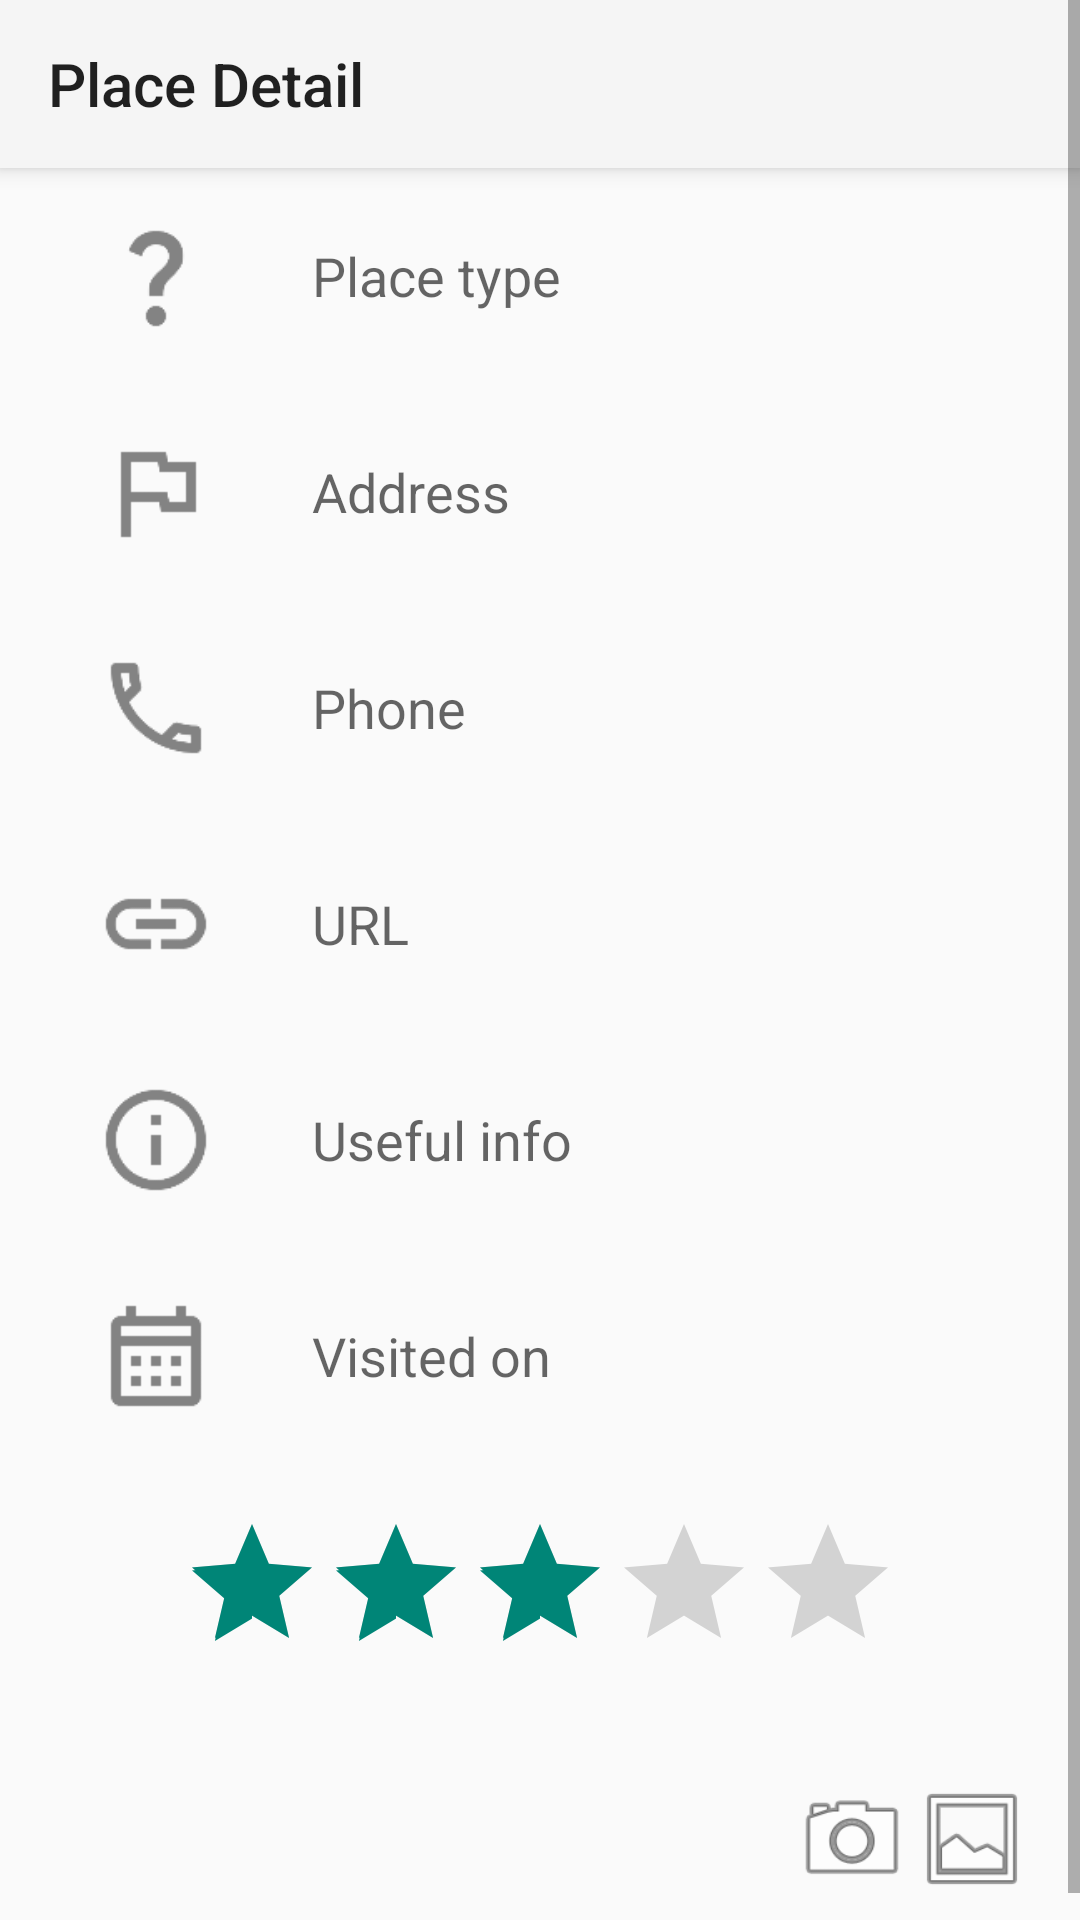

Screen size 1080*1920. Icon name, then its center in pixels as point (x, y):
date: point (156, 1356)
